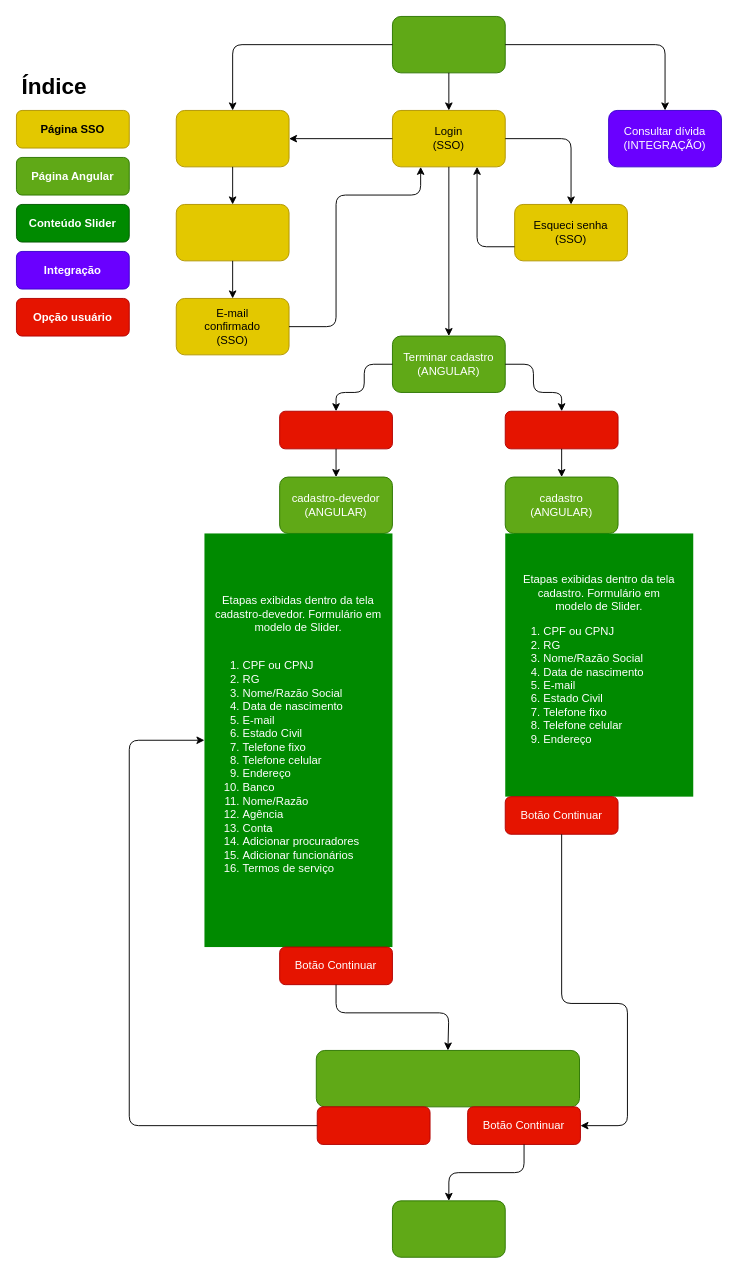
Image size: 738x1274. Some labels were removed from this diagram. The box of each missing label's shape, as (x1, y1, x2, y2) in pixels:
Botão Editar: (316, 1106, 430, 1144)
Cadastro (SSO): (175, 110, 289, 167)
Card Credor: (279, 410, 392, 449)
Card Devedor: (504, 410, 618, 449)
Confirmação de e-mail (SSO): (175, 204, 289, 261)
Dashboard (ANGULAR): (392, 1200, 505, 1257)
Home (ANGULAR): (392, 16, 505, 73)
Print dos dados preenchidos (ANGULAR): (315, 1050, 580, 1107)
